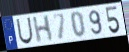0: (70, 10, 87, 39)
5: (104, 5, 121, 35)
7: (52, 12, 66, 42)
9: (88, 9, 104, 36)
H: (32, 14, 54, 45)
U: (15, 16, 34, 46)
